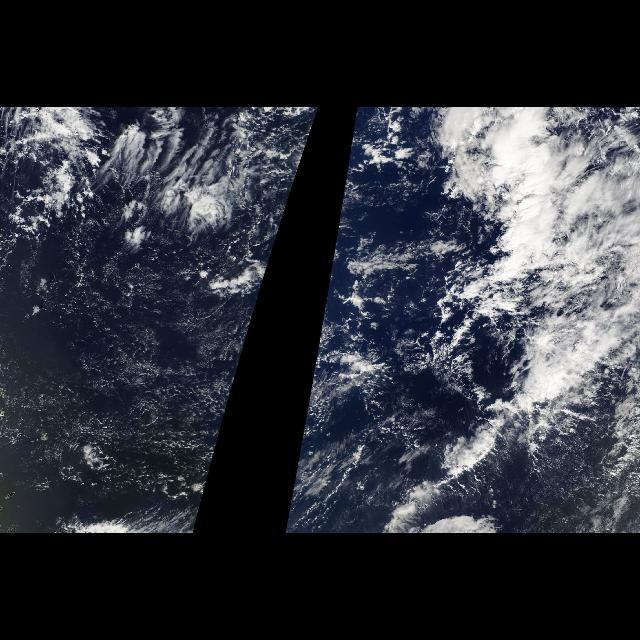Fish: (427, 253, 503, 412), (382, 450, 473, 532)
Sugar: (2, 258, 272, 350)
